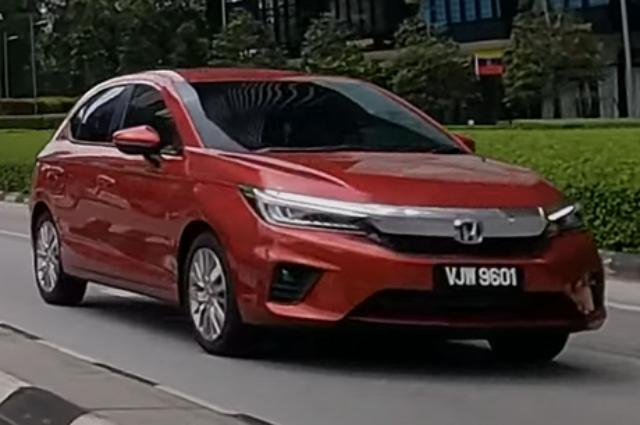License_Plate: (435, 261, 526, 297)
car: (29, 67, 609, 364)
